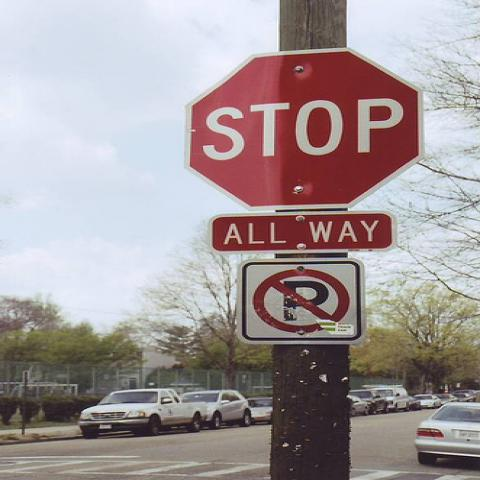car: (410, 401, 478, 467), (180, 388, 254, 430), (348, 389, 396, 414), (364, 387, 410, 412), (248, 396, 273, 423), (347, 394, 371, 416), (410, 394, 440, 409), (450, 394, 478, 402), (451, 390, 474, 398), (440, 393, 453, 405), (410, 397, 420, 411)
truck: (79, 388, 206, 438)
